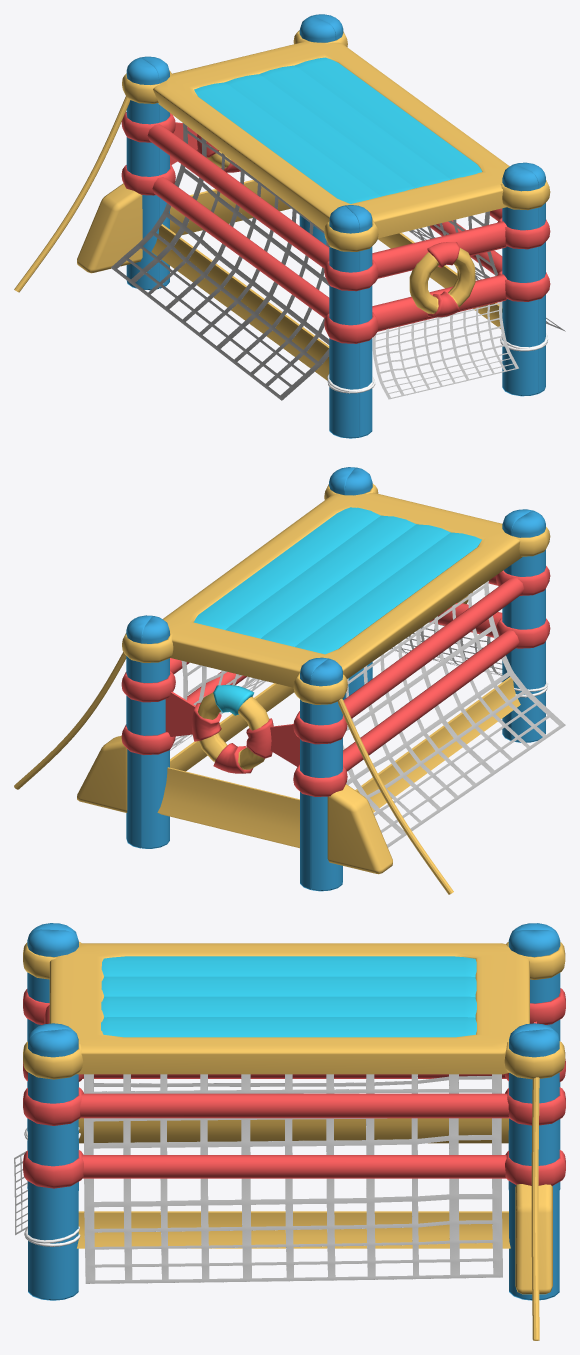
Rendered from HookZone2.fbx.
The picture shows the model from 3 angles, top to bottom: view 1: azimuth 30°, elevation 25°; view 2: azimuth 150°, elevation 25°; view 3: azimuth 270°, elevation 25°; orthographic projection. The views are drawn at different scales.
Parts seen in each view (by area): view 1: Detail, structureDetail, pilars, net_r, net_front, net_l; view 2: Detail, pilars, structureDetail, net_r, net_l, net_front; view 3: Detail, structureDetail, net_l, pilars, net_r.
Part boxes in pixels (x1,y1,x2,y2): Detail: (14, 30, 550, 380); structureDetail: (121, 112, 550, 343); pilars: (126, 14, 545, 438); net_r: (111, 123, 329, 400); net_front: (372, 301, 518, 399); net_l: (409, 211, 565, 331); Detail: (14, 483, 550, 894); pilars: (126, 467, 545, 891); structureDetail: (121, 566, 550, 796); net_r: (343, 581, 565, 847); net_l: (170, 661, 265, 750); net_front: (390, 622, 502, 675); Detail: (23, 941, 565, 1340); structureDetail: (23, 988, 565, 1188); net_l: (84, 1074, 502, 1283); pilars: (27, 923, 560, 1300); net_r: (93, 1074, 501, 1093).
Size of the model in its own units: 16.78 by 7.99 by 15.39.
